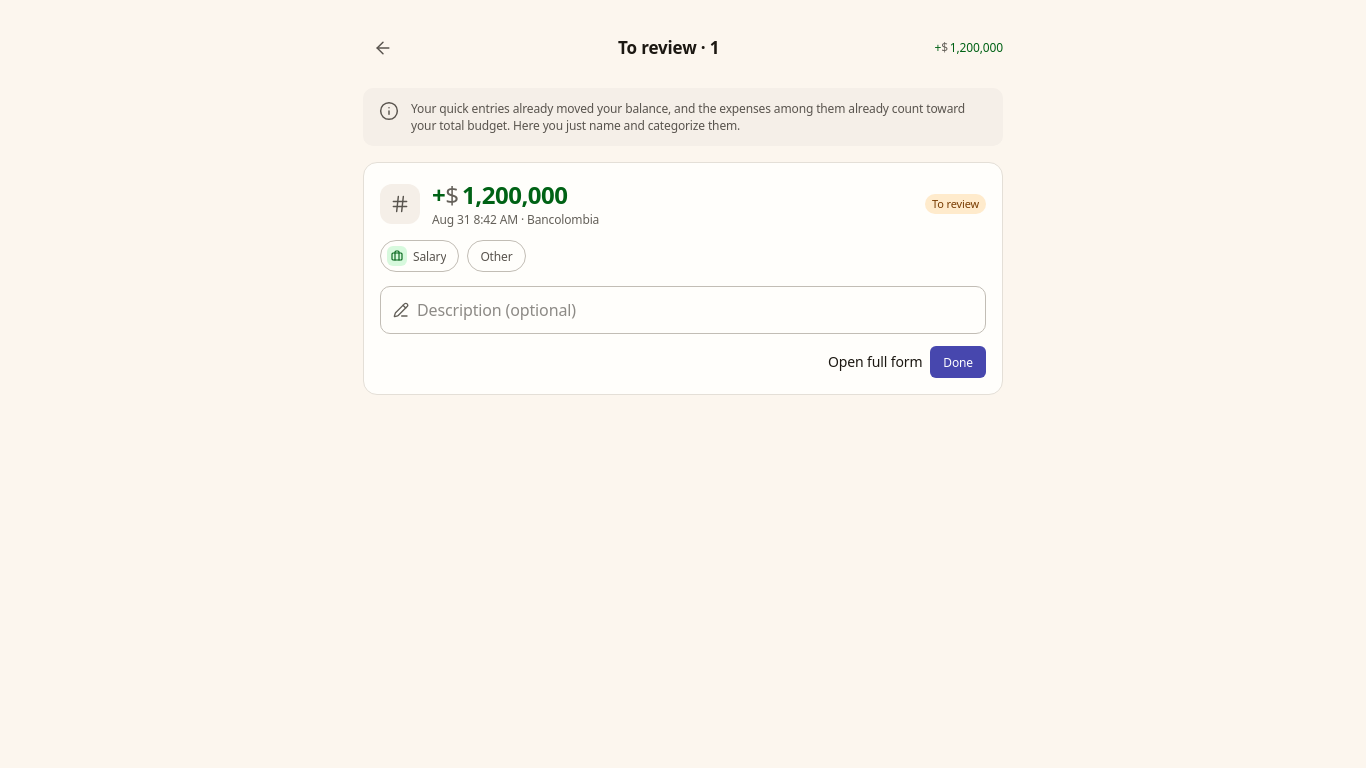
Test: ReviewScreen › offers a quick income its own categories, in the chips and in the picker
The image size is (1366, 768).
Expected: the button "Salary" is shown, [380,240,459,272]
Click the button "Other".
click(496, 256)  # box [467,240,526,272]
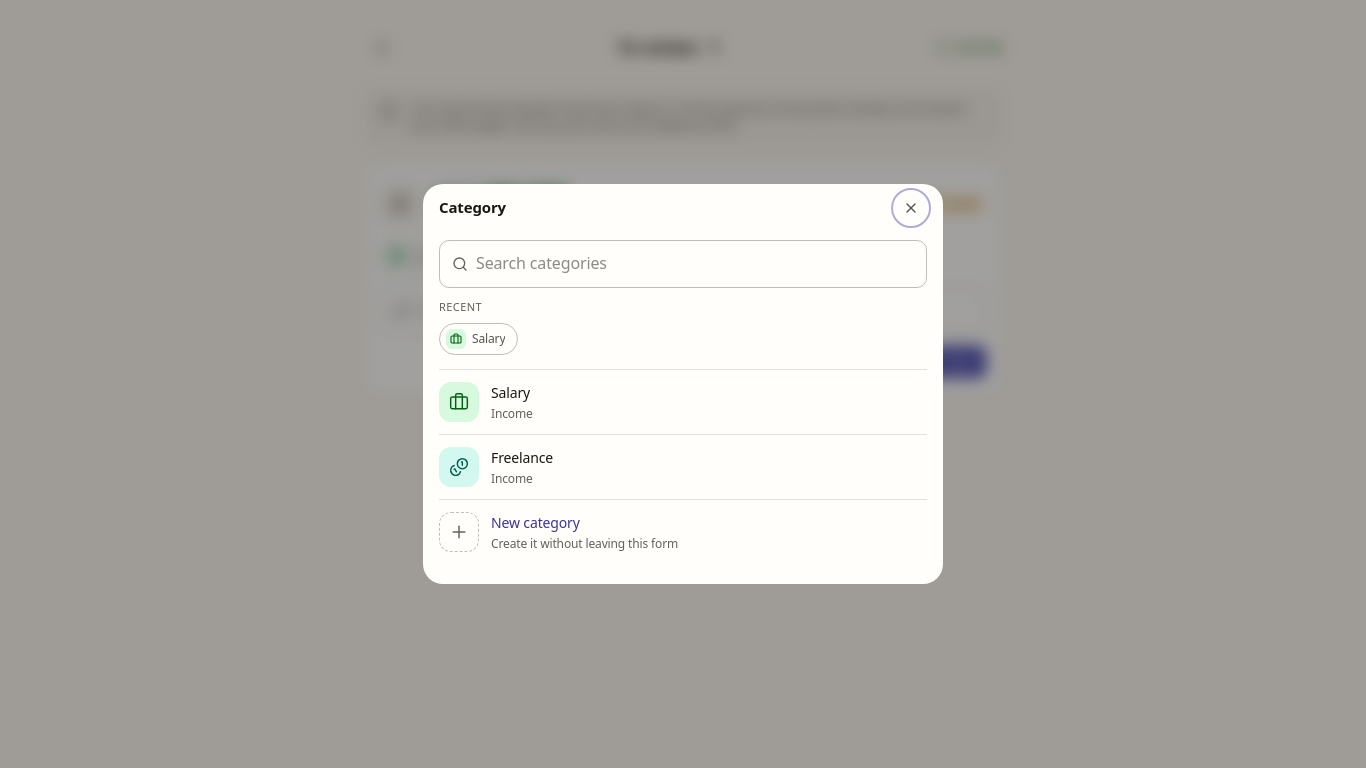
Expected: the text "+$1,200,000" is shown, [432,178,568,211]
Now the option "Freelance Income" is shown, box [439,434,927,499]
